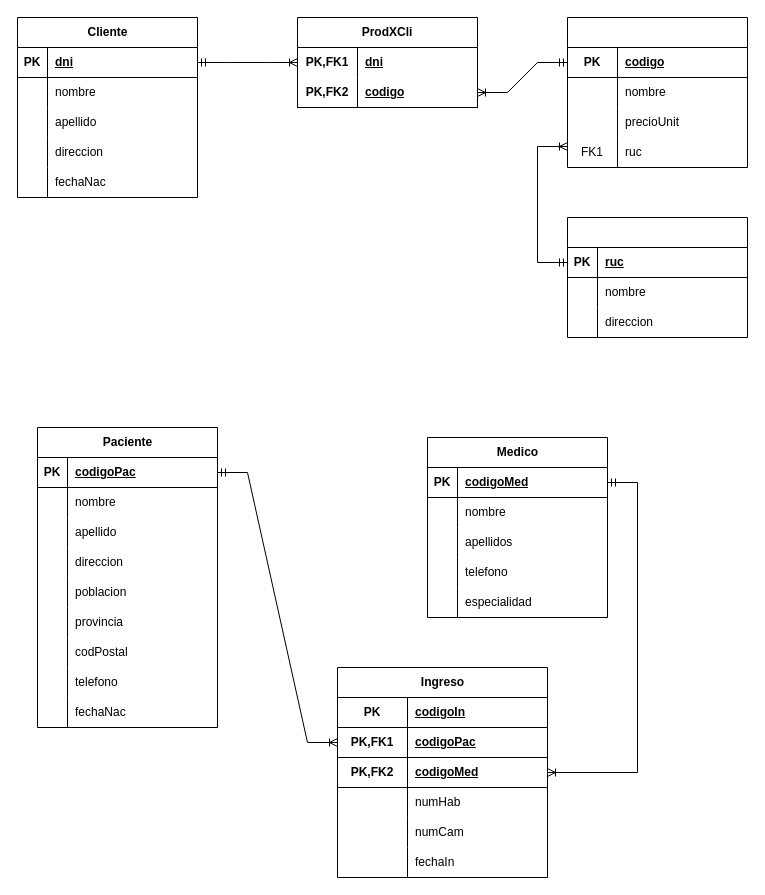
The diagram is 765 pixels wide and 895 high, and some of its shapes have lost their labels. The box of each missing label's shape, as (x1, y1, x2, y2) in pixels:
Producto: (566, 16, 748, 168)
Proveedor: (566, 216, 748, 338)
